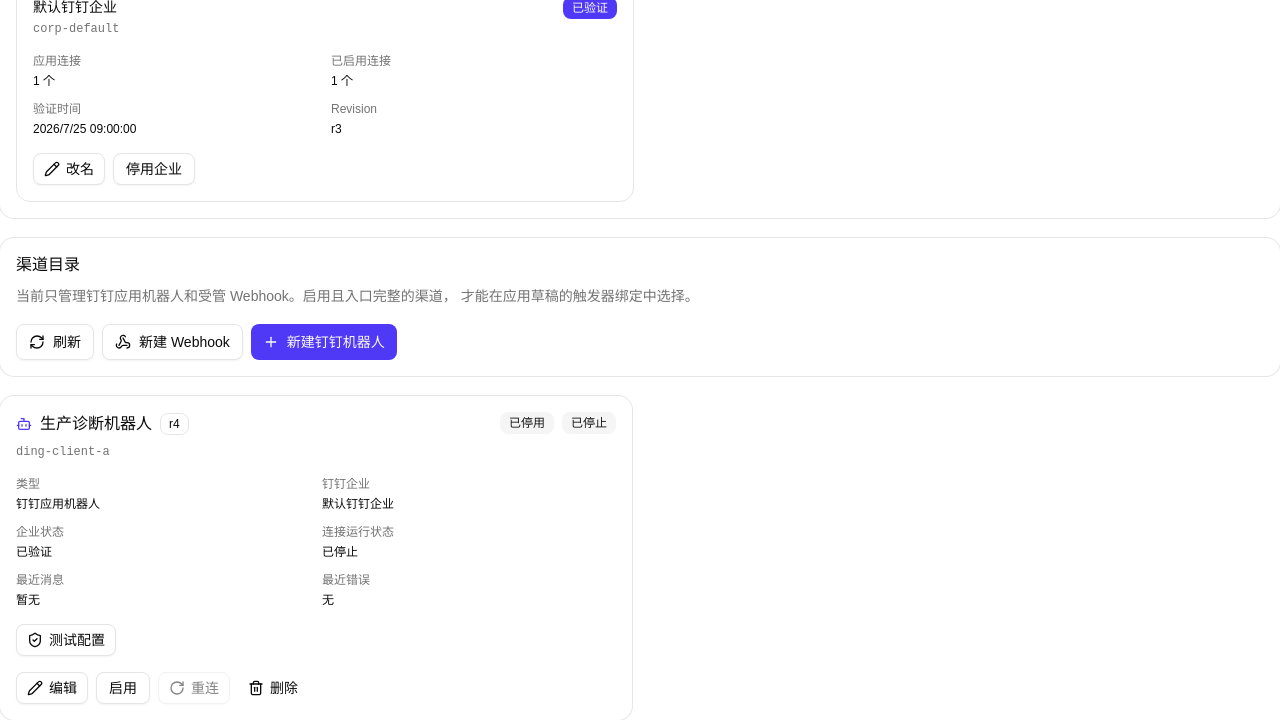
Scenario: Managed channels › lists business application references before allowing channel deletion
(page scrolled)
expect the text "生产诊断机器人" is shown: met, box [40, 412, 152, 436]
Click the button "删除".
click(273, 688)  # box [238, 672, 308, 704]
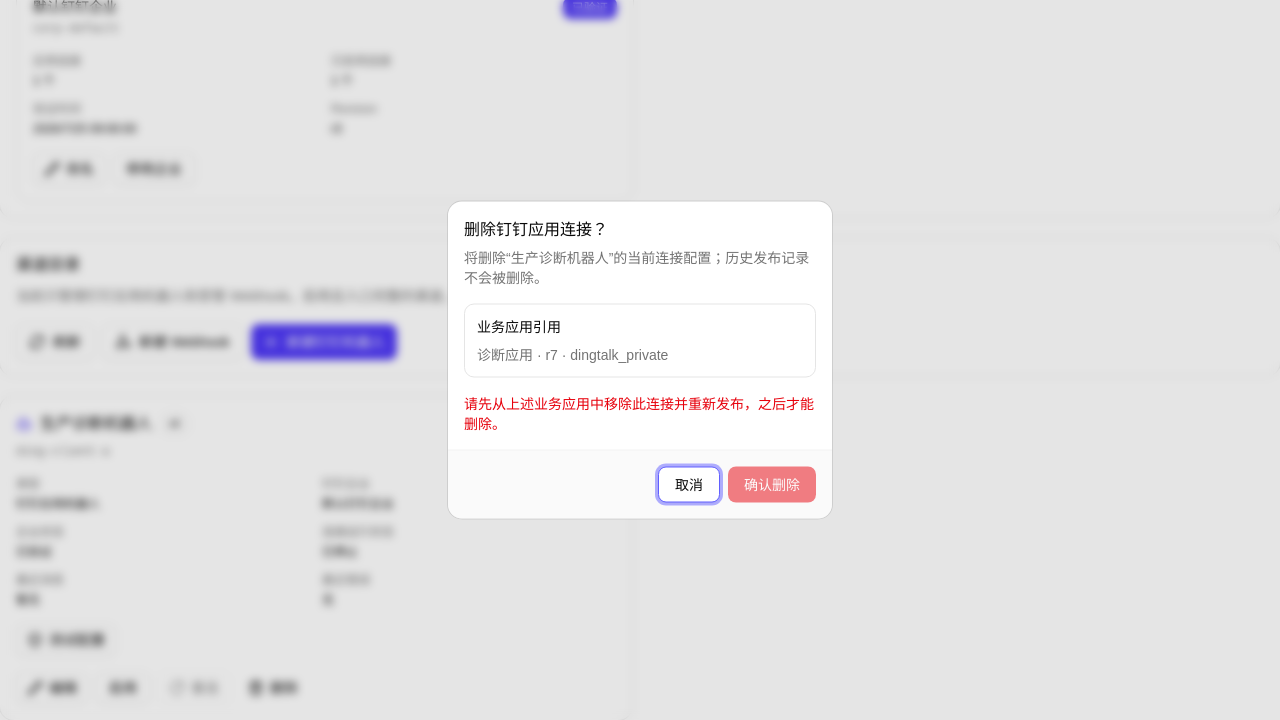
expect the heading "删除钉钉应用连接？" is shown: met, box [464, 218, 608, 242]
expect the list item "诊断应用 · r7 · dingtalk_private" is shown: met, box [477, 346, 668, 362]
expect the button "确认删除" is disabled: met, box [728, 466, 816, 502]
